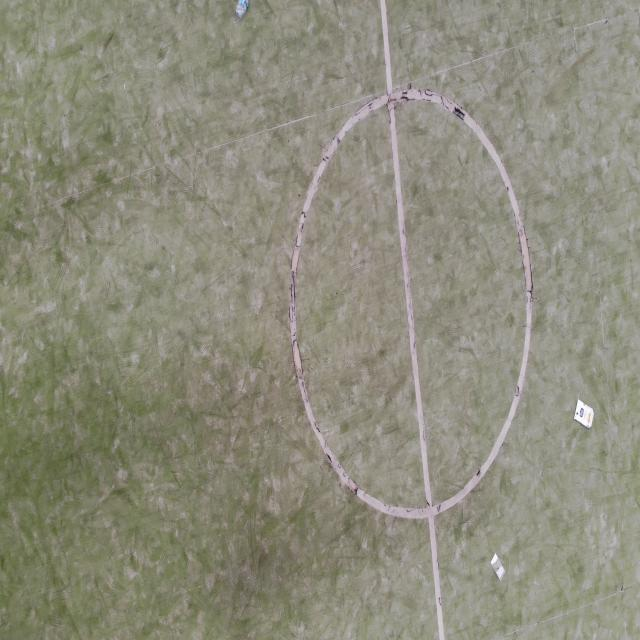rubbish: (573, 397, 594, 431), (489, 553, 506, 579), (233, 0, 250, 21)
